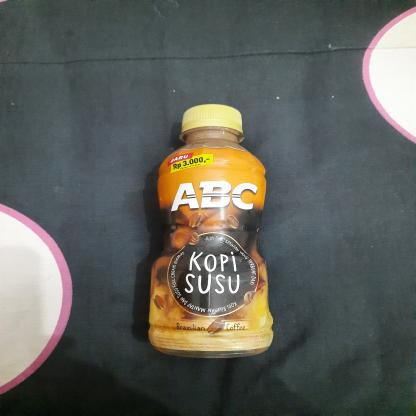bottle: (143, 100, 277, 361)
